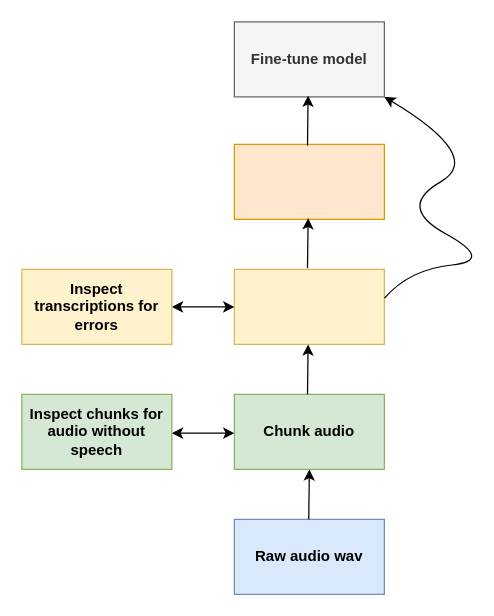
This 494x616 diagram has some shape labels left out. Each missing label, with the centre of its shape:
"Outlier Detection" goes at point 308,181.
"Transcribe chunks with Whisper" goes at point 308,306.
